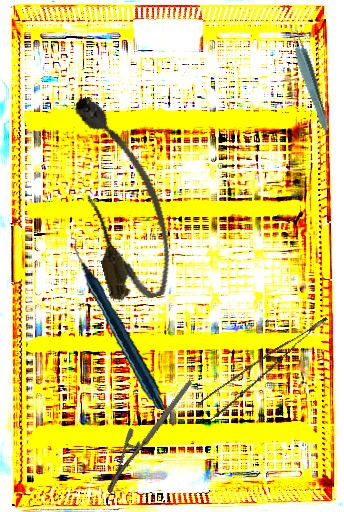Cannula: (61, 86, 183, 308)
Handpiece: (53, 238, 188, 411)
Needle Holder: (81, 379, 219, 495)
Tissue Forceps: (194, 316, 341, 422), (285, 21, 334, 133)
